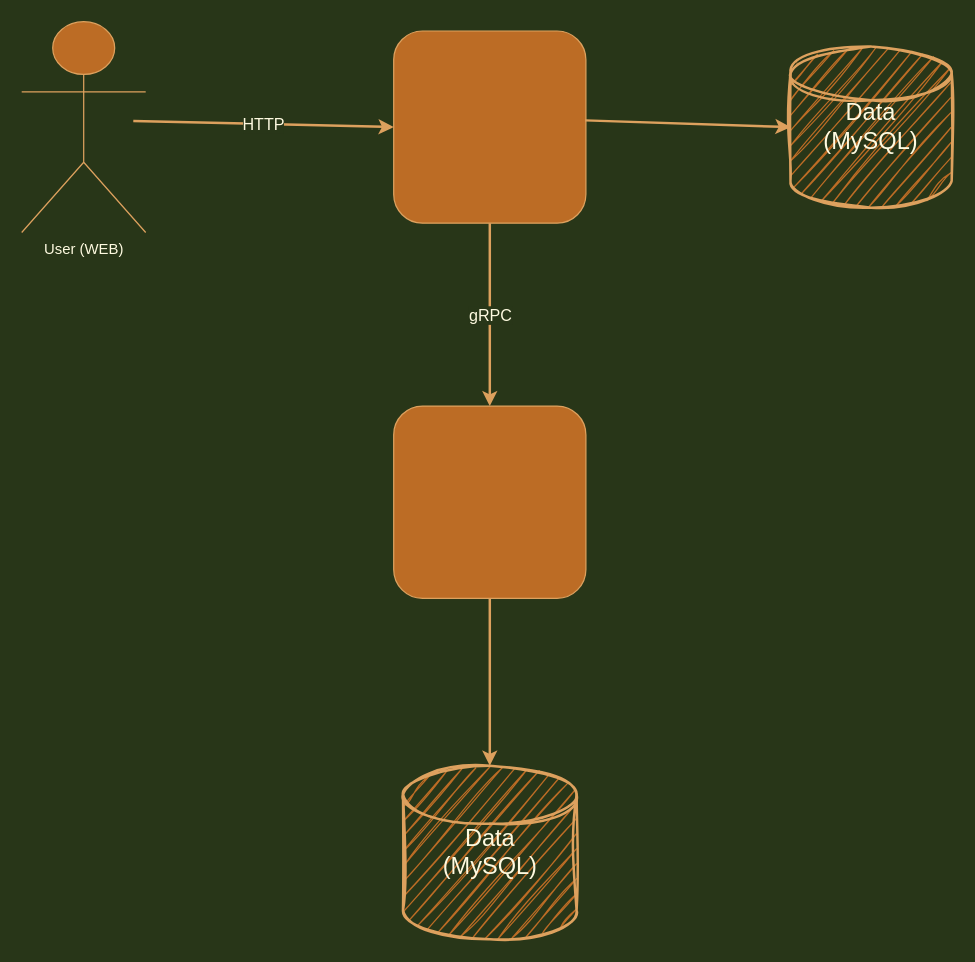
Some shapes in this 975 by 962 pixel diagram are drawn without their labels. The centre of each missing label's shape, as x and y in pixels:
Monolith: point (489, 126)
SSO: point (489, 501)
